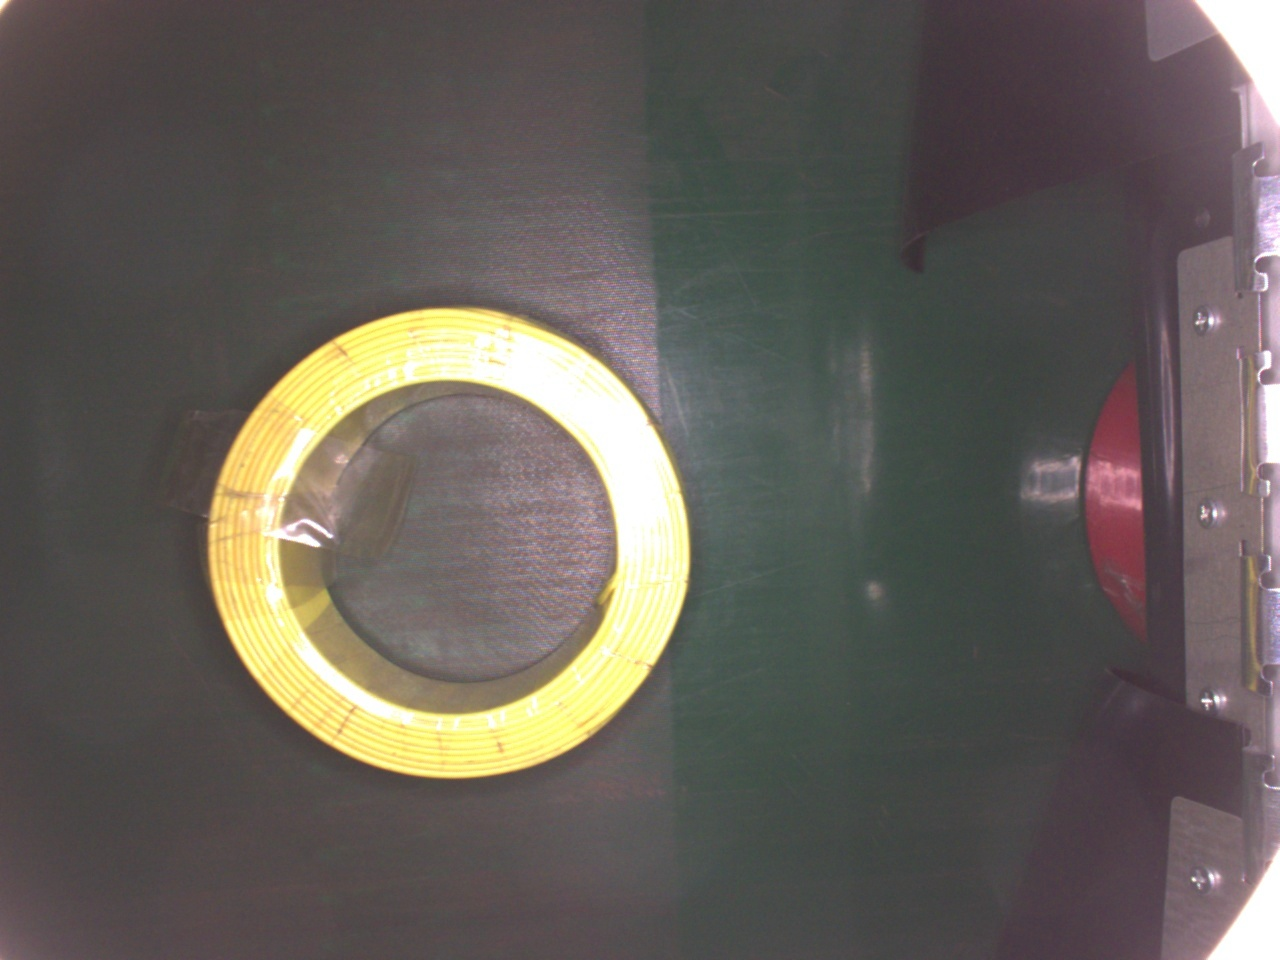yellow: (208, 295, 694, 783)
